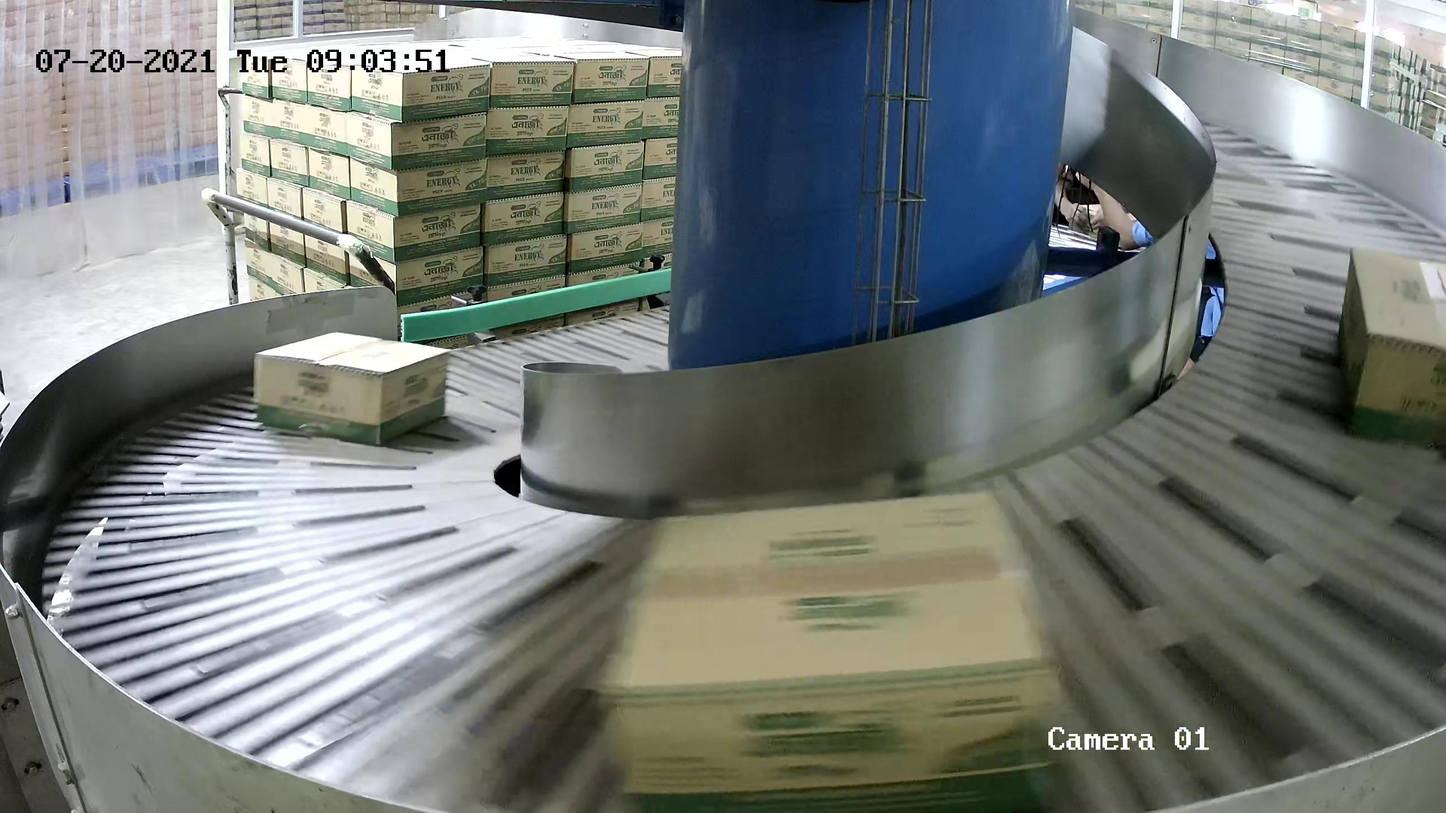Box: (593, 486, 1067, 813), (251, 330, 451, 447), (1337, 245, 1446, 446)
